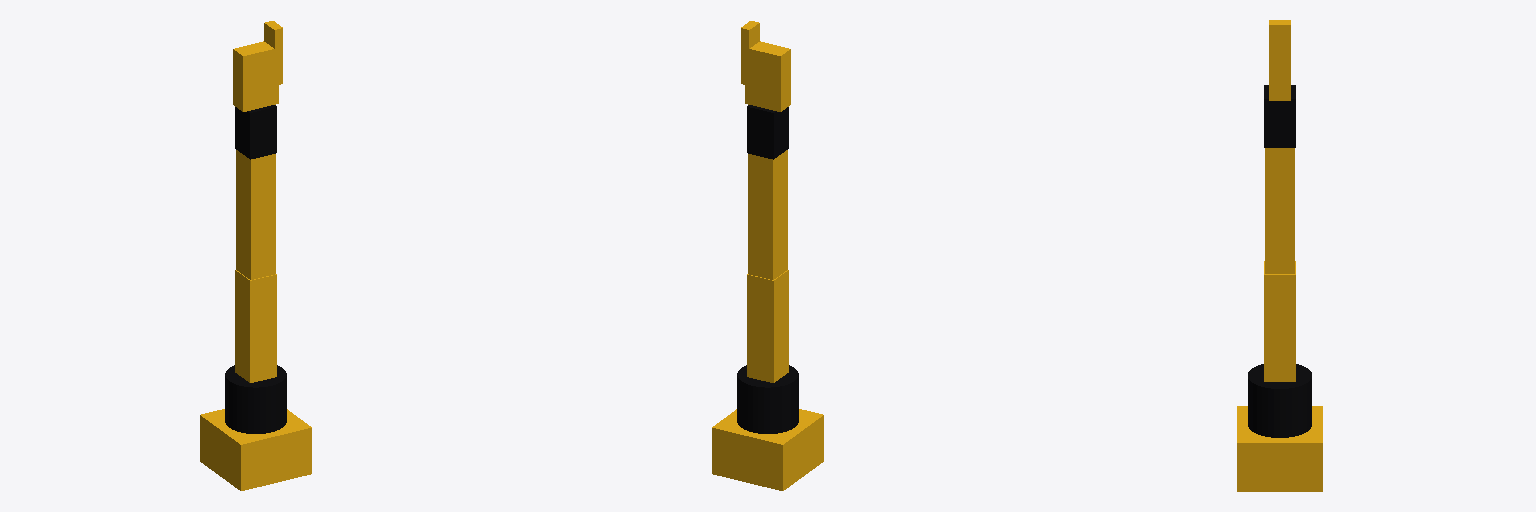
URDF robot description (desk_arm):
<?xml version="1.0"?>
<!--
  A hand-written six-joint desk arm with SO-101-like proportions, for the
  robot-description tests and the Verse capture. It is not the SO-101
  description and copies none of its files. The base mesh is in
  millimeters and scaled into meters here.
-->
<robot name="desk_arm">
  <material name="printed">
    <color rgba="0.95 0.72 0.12 1"/>
  </material>
  <material name="servo">
    <color rgba="0.08 0.08 0.09 1"/>
  </material>

  <link name="base">
    <visual>
      <geometry>
        <mesh filename="meshes/base.stl" scale="0.001 0.001 0.001"/>
      </geometry>
      <material name="printed"/>
    </visual>
    <inertial>
      <origin xyz="0 0 0.025"/>
      <mass value="0.3"/>
      <inertia ixx="0.0002" ixy="0" ixz="0" iyy="0.0002" iyz="0" izz="0.0003"/>
    </inertial>
  </link>
  <link name="shoulder">
    <visual>
      <origin xyz="0 0 0.025"/>
      <geometry>
        <cylinder radius="0.03" length="0.05"/>
      </geometry>
      <material name="servo"/>
    </visual>
  </link>
  <link name="upper_arm">
    <visual>
      <origin xyz="0 0 0.055"/>
      <geometry>
        <box size="0.03 0.03 0.11"/>
      </geometry>
      <material name="printed"/>
    </visual>
  </link>
  <link name="forearm">
    <visual>
      <origin xyz="0 0 0.065"/>
      <geometry>
        <box size="0.028 0.028 0.13"/>
      </geometry>
      <material name="printed"/>
    </visual>
  </link>
  <link name="wrist">
    <visual>
      <origin xyz="0 0 0.025"/>
      <geometry>
        <box size="0.03 0.03 0.05"/>
      </geometry>
      <material name="servo"/>
    </visual>
  </link>
  <link name="gripper">
    <visual>
      <origin xyz="0 0 0.03"/>
      <geometry>
        <box size="0.04 0.02 0.06"/>
      </geometry>
      <material name="printed"/>
    </visual>
  </link>
  <link name="jaw">
    <visual>
      <origin xyz="0 0 0.03"/>
      <geometry>
        <box size="0.01 0.02 0.06"/>
      </geometry>
      <material name="printed"/>
    </visual>
  </link>

  <joint name="shoulder_pan" type="revolute">
    <parent link="base"/>
    <child link="shoulder"/>
    <origin xyz="0 0 0.05" rpy="0 0 0"/>
    <axis xyz="0 0 1"/>
    <limit lower="-1.92" upper="1.92" effort="3" velocity="5"/>
  </joint>
  <joint name="shoulder_lift" type="revolute">
    <parent link="shoulder"/>
    <child link="upper_arm"/>
    <origin xyz="0 0 0.05"/>
    <axis xyz="0 1 0"/>
    <limit lower="-1.75" upper="1.75" effort="3" velocity="5"/>
  </joint>
  <joint name="elbow_flex" type="revolute">
    <parent link="upper_arm"/>
    <child link="forearm"/>
    <origin xyz="0 0 0.11"/>
    <axis xyz="0 1 0"/>
    <limit lower="-1.69" upper="1.69" effort="3" velocity="5"/>
  </joint>
  <joint name="wrist_flex" type="revolute">
    <parent link="forearm"/>
    <child link="wrist"/>
    <origin xyz="0 0 0.13"/>
    <axis xyz="0 1 0"/>
    <limit lower="-1.66" upper="1.66" effort="3" velocity="5"/>
  </joint>
  <joint name="wrist_roll" type="revolute">
    <parent link="wrist"/>
    <child link="gripper"/>
    <origin xyz="0 0 0.05"/>
    <axis xyz="0 0 1"/>
    <limit lower="-2.74" upper="2.84" effort="3" velocity="5"/>
  </joint>
  <joint name="gripper" type="revolute">
    <parent link="gripper"/>
    <child link="jaw"/>
    <origin xyz="0.02 0 0.02"/>
    <axis xyz="0 1 0"/>
    <limit lower="-0.17" upper="1.75" effort="3" velocity="5"/>
  </joint>
</robot>

--- Facts derived from the render (not from the file) ---
3 views of the same robot in one strip: view 1: azimuth 30°, elevation 25°; view 2: azimuth 150°, elevation 25°; view 3: azimuth 270°, elevation 25° (orthographic).
Robot: desk_arm — 7 links, 6 joints (6 revolute); root link base; default pose: all joints at 0.
Links seen in each view (by area): view 1: base, forearm, upper_arm, shoulder, gripper, wrist, jaw; view 2: base, forearm, upper_arm, shoulder, gripper, wrist, jaw; view 3: base, shoulder, forearm, upper_arm, wrist, jaw.
Link boxes in pixels (<box>): base: <box>200,409,311,490</box>; forearm: <box>236,150,275,279</box>; upper_arm: <box>235,270,276,382</box>; shoulder: <box>225,365,286,433</box>; gripper: <box>233,41,278,111</box>; wrist: <box>235,105,276,159</box>; jaw: <box>264,21,282,84</box>; base: <box>712,409,823,490</box>; forearm: <box>748,150,787,279</box>; upper_arm: <box>747,270,788,382</box>; shoulder: <box>737,365,798,433</box>; gripper: <box>745,41,790,111</box>; wrist: <box>747,105,788,159</box>; jaw: <box>741,21,759,85</box>; base: <box>1237,406,1322,491</box>; shoulder: <box>1248,364,1311,437</box>; forearm: <box>1265,148,1294,273</box>; upper_arm: <box>1264,261,1295,381</box>; wrist: <box>1264,85,1295,147</box>; jaw: <box>1269,20,1290,83</box>.
Bounding box of the posed robot: 0.08 × 0.08 × 0.47 m (x, y, z).
1 mesh visuals loaded from 1 distinct referenced files (1 ASCII STL).
